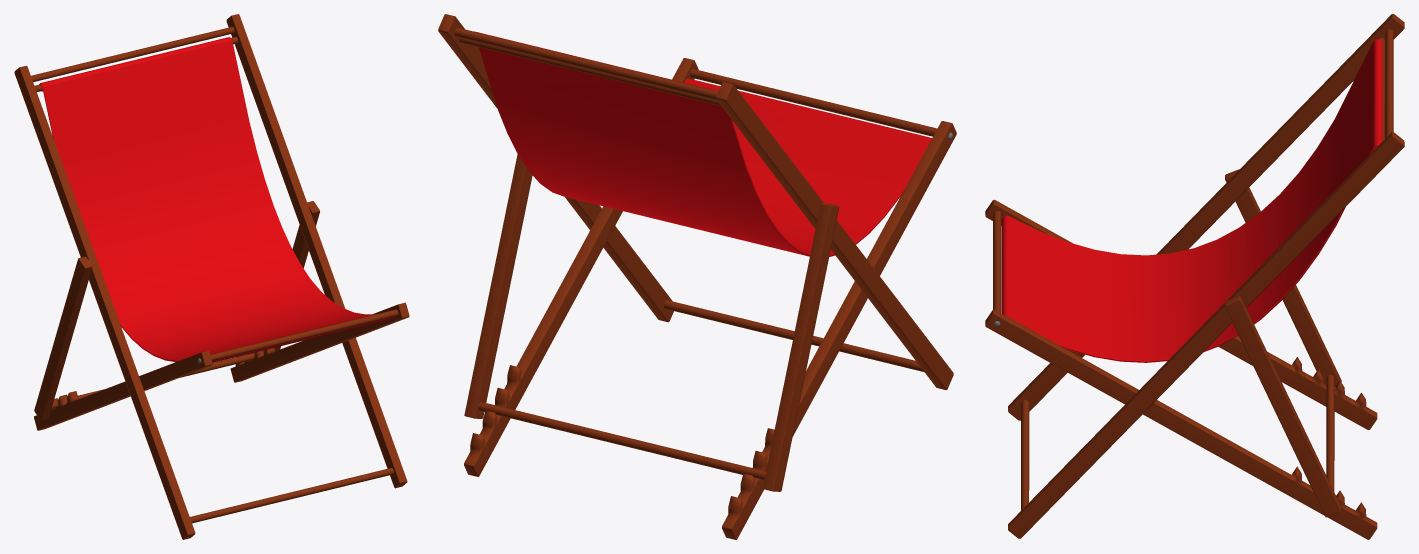
File: BeachChair 1.FBX
3 renders of one model, left to right at view 1: azimuth 30°, elevation 25°; view 2: azimuth 150°, elevation 25°; view 3: azimuth 270°, elevation 25°, orthographic. The views are drawn at different scales.
Parts seen in each view (by area): view 1: BeachChair; view 2: BeachChair; view 3: BeachChair.
Boxes of the visible parts, x1,y1,x2,y2 form: BeachChair: (14,14,409,539); BeachChair: (438,14,956,539); BeachChair: (985,14,1404,539).
Size of the model in its own units: 111 by 162 by 150.
